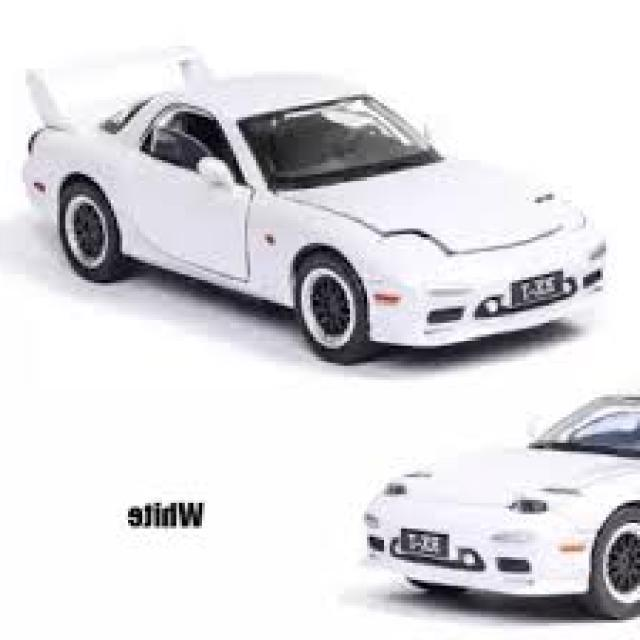Car: (22, 43, 608, 366), (364, 386, 640, 620)
